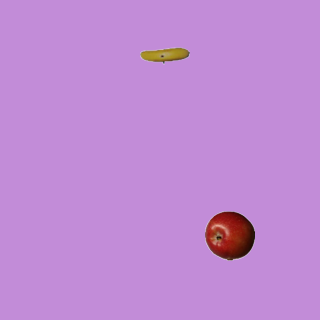Apple Braeburn: (204, 210, 254, 260)
Banana: (139, 30, 189, 80)
